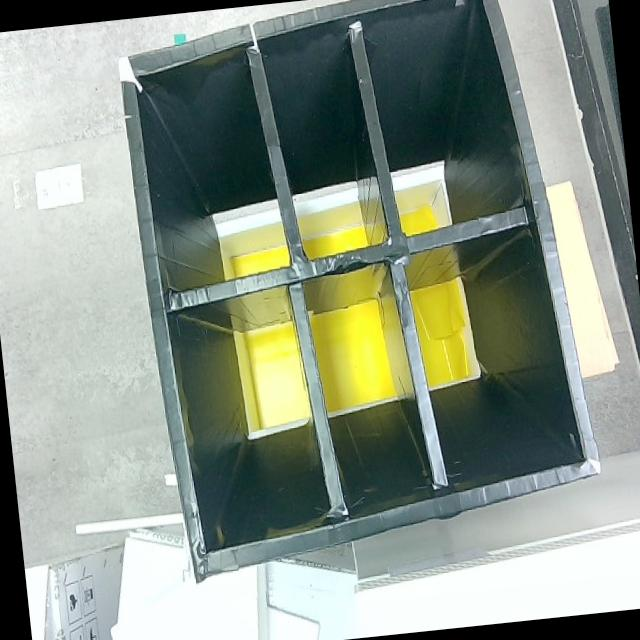box: (108, 0, 612, 589)
